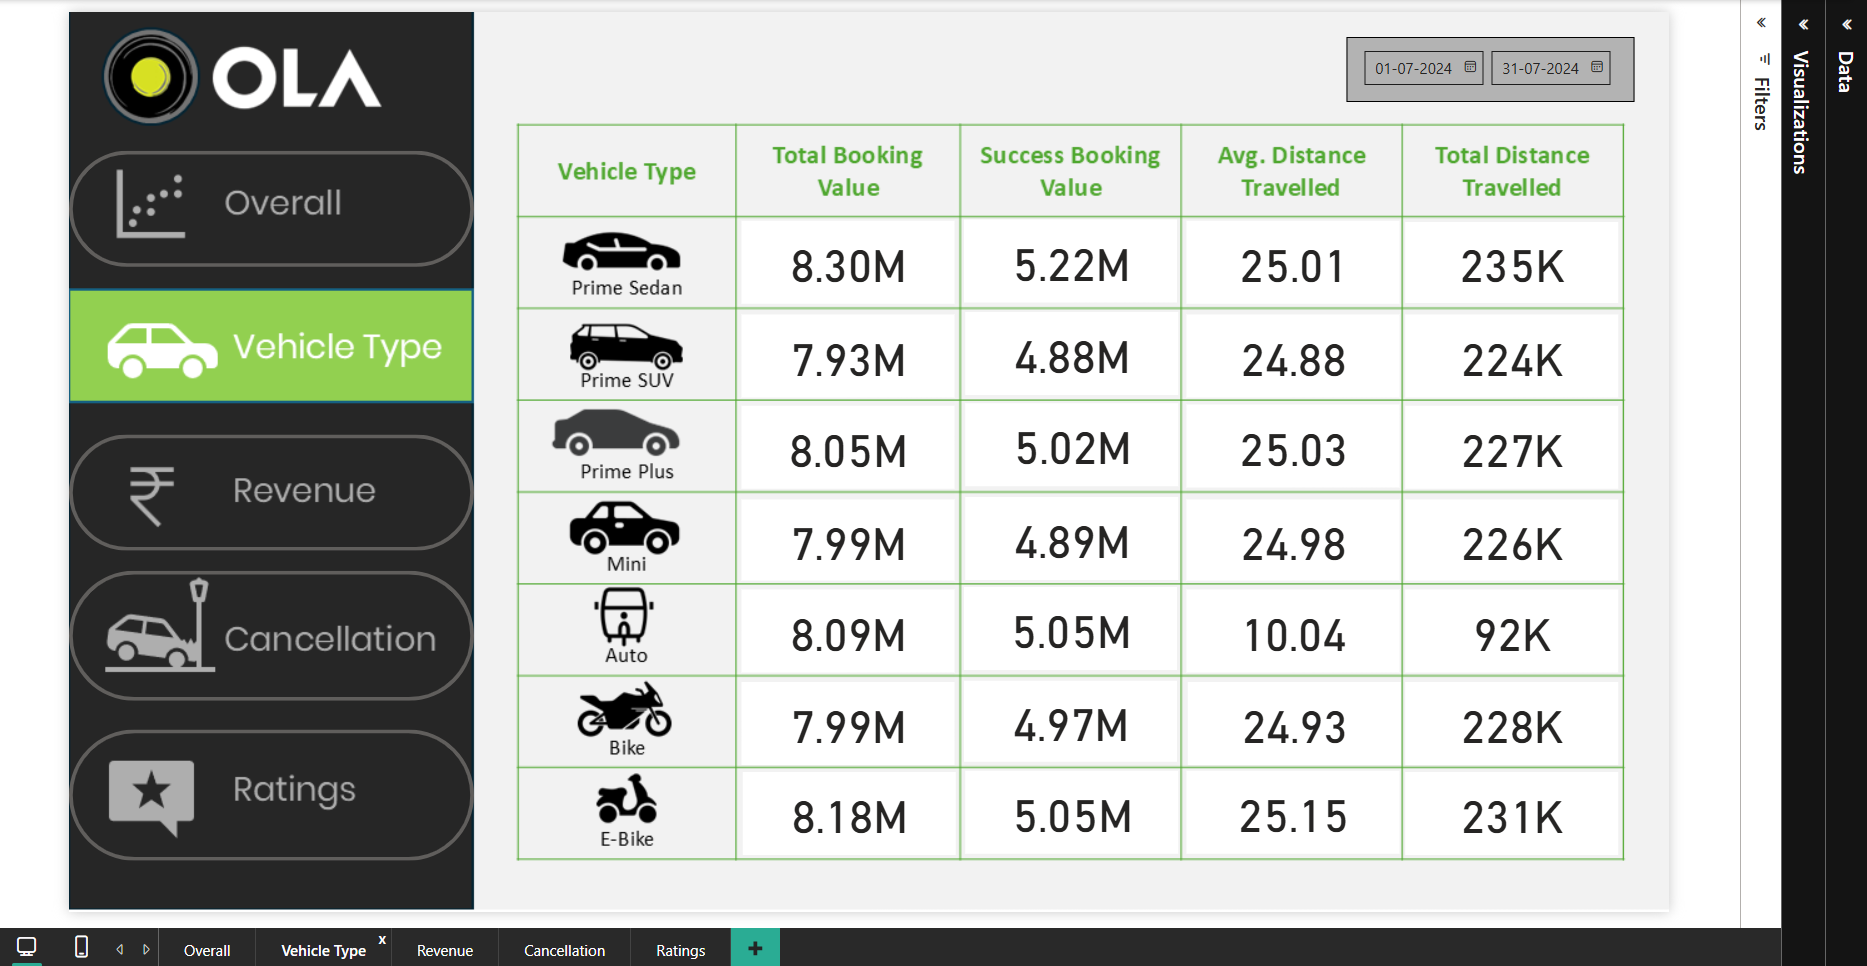

Layout of this report page (visuals, bound fields, positions):
{"tool":"powerbi","page":{"name":"Vehicle Type","canvas":[1280,720],"ordinal":1},"visuals":[{"type":"actionButton","box":[0,111.1,324.4,93.3],"z":0},{"type":"actionButton","box":[0,337.8,324.4,93.3],"z":1000},{"type":"actionButton","box":[0,446.7,324.4,104.4],"z":2000},{"type":"actionButton","box":[0,574.4,324.4,104.4],"z":3000},{"type":"card","fields":{"Values":["Sum(Bookings-100000-Rows.Booking_Value)"]},"box":[716,165.6,170,66],"z":4000},{"type":"card","fields":{"Values":["Sum(Bookings-100000-Rows.Booking_Value)"]},"box":[716.9,240.3,170,65.9],"z":5000},{"type":"card","fields":{"Values":["Sum(Bookings-100000-Rows.Booking_Value)"]},"box":[716.9,313.2,170,65.9],"z":6000},{"type":"card","fields":{"Values":["Sum(Bookings-100000-Rows.Booking_Value)"]},"box":[716.9,388,170,65.6],"z":7000},{"type":"card","fields":{"Values":["Sum(Bookings-100000-Rows.Booking_Value)"]},"box":[716.2,460.3,170,65.9],"z":8000},{"type":"card","fields":{"Values":["Sum(Bookings-100000-Rows.Booking_Value)"]},"box":[716.2,534.7,170,65.6],"z":9000},{"type":"card","fields":{"Values":["Sum(Bookings-100000-Rows.Booking_Value)"]},"box":[716.9,606.9,170,65.9],"z":10000},{"type":"card","fields":{"Values":["Sum(Bookings-100000-Rows.Booking_Value)"]},"box":[537.8,167.2,170,66],"z":11000},{"type":"card","fields":{"Values":["Sum(Bookings-100000-Rows.Booking_Value)"]},"box":[537.8,242,170,66],"z":12000},{"type":"card","fields":{"Values":["Sum(Bookings-100000-Rows.Booking_Value)"]},"box":[537.8,314.8,170,66],"z":13000},{"type":"card","fields":{"Values":["Sum(Bookings-100000-Rows.Booking_Value)"]},"box":[537.8,390,170,65.2],"z":14000},{"type":"card","fields":{"Values":["Sum(Bookings-100000-Rows.Booking_Value)"]},"box":[537.8,462,170,66],"z":15000},{"type":"card","fields":{"Values":["Sum(Bookings-100000-Rows.Booking_Value)"]},"box":[538.2,536.4,170,65.6],"z":16000},{"type":"card","fields":{"Values":["Sum(Bookings-100000-Rows.Booking_Value)"]},"box":[538.6,608.4,170,66],"z":17000},{"type":"card","fields":{"Values":["Avg(Bookings-100000-Rows.Ride_Distance)"]},"box":[894.2,166.8,170,66],"z":18000},{"type":"card","fields":{"Values":["Avg(Bookings-100000-Rows.Ride_Distance)"]},"box":[894.2,241.6,170,66],"z":19000},{"type":"card","fields":{"Values":["Avg(Bookings-100000-Rows.Ride_Distance)"]},"box":[894.2,314.4,170,66],"z":20000},{"type":"card","fields":{"Values":["Avg(Bookings-100000-Rows.Ride_Distance)"]},"box":[894.2,389.6,170,65.2],"z":21000},{"type":"card","fields":{"Values":["Avg(Bookings-100000-Rows.Ride_Distance)"]},"box":[894.2,461.6,170,66],"z":22000},{"type":"card","fields":{"Values":["Avg(Bookings-100000-Rows.Ride_Distance)"]},"box":[894.6,536,170,65.6],"z":23000},{"type":"card","fields":{"Values":["Avg(Bookings-100000-Rows.Ride_Distance)"]},"box":[894,607,170,66],"z":24000},{"type":"card","fields":{"Values":["Sum(Bookings-100000-Rows.Ride_Distance)"]},"box":[1069.3,167.7,170,65],"z":25000},{"type":"card","fields":{"Values":["Sum(Bookings-100000-Rows.Ride_Distance)"]},"box":[1069.3,242.3,170,65.7],"z":26000},{"type":"card","fields":{"Values":["Sum(Bookings-100000-Rows.Ride_Distance)"]},"box":[1069.3,314.7,170,66],"z":27000},{"type":"card","fields":{"Values":["Sum(Bookings-100000-Rows.Ride_Distance)"]},"box":[1069.3,390,170,65.3],"z":28000},{"type":"card","fields":{"Values":["Sum(Bookings-100000-Rows.Ride_Distance)"]},"box":[1069.3,462,170,66],"z":29000},{"type":"card","fields":{"Values":["Sum(Bookings-100000-Rows.Ride_Distance)"]},"box":[1069.3,536.3,170,65.3],"z":30000},{"type":"card","fields":{"Values":["Sum(Bookings-100000-Rows.Ride_Distance)"]},"box":[1069.3,608.3,170,66],"z":31000},{"type":"slicer","title":"Date","fields":{"Values":["Bookings-100000-Rows.Date"]},"box":[1021.7,20,230,51.7],"z":32000}]}

Visuals, with their boxes on the page's 1280x720 design canvas (x1, y1, x2, y2). These are canvas units, not pixel positions in the 1867x966 screenshot, which may show the page scaled, cropped or inside an application window:
actionButton: <bbox>0, 111, 324, 204</bbox>
actionButton: <bbox>0, 338, 324, 431</bbox>
actionButton: <bbox>0, 447, 324, 551</bbox>
actionButton: <bbox>0, 574, 324, 679</bbox>
card - Sum(Bookings-100000-Rows.Booking_Value): <bbox>716, 166, 886, 232</bbox>
card - Sum(Bookings-100000-Rows.Booking_Value): <bbox>717, 240, 887, 306</bbox>
card - Sum(Bookings-100000-Rows.Booking_Value): <bbox>717, 313, 887, 379</bbox>
card - Sum(Bookings-100000-Rows.Booking_Value): <bbox>717, 388, 887, 454</bbox>
card - Sum(Bookings-100000-Rows.Booking_Value): <bbox>716, 460, 886, 526</bbox>
card - Sum(Bookings-100000-Rows.Booking_Value): <bbox>716, 535, 886, 600</bbox>
card - Sum(Bookings-100000-Rows.Booking_Value): <bbox>717, 607, 887, 673</bbox>
card - Sum(Bookings-100000-Rows.Booking_Value): <bbox>538, 167, 708, 233</bbox>
card - Sum(Bookings-100000-Rows.Booking_Value): <bbox>538, 242, 708, 308</bbox>
card - Sum(Bookings-100000-Rows.Booking_Value): <bbox>538, 315, 708, 381</bbox>
card - Sum(Bookings-100000-Rows.Booking_Value): <bbox>538, 390, 708, 455</bbox>
card - Sum(Bookings-100000-Rows.Booking_Value): <bbox>538, 462, 708, 528</bbox>
card - Sum(Bookings-100000-Rows.Booking_Value): <bbox>538, 536, 708, 602</bbox>
card - Sum(Bookings-100000-Rows.Booking_Value): <bbox>539, 608, 709, 674</bbox>
card - Avg(Bookings-100000-Rows.Ride_Distance): <bbox>894, 167, 1064, 233</bbox>
card - Avg(Bookings-100000-Rows.Ride_Distance): <bbox>894, 242, 1064, 308</bbox>
card - Avg(Bookings-100000-Rows.Ride_Distance): <bbox>894, 314, 1064, 380</bbox>
card - Avg(Bookings-100000-Rows.Ride_Distance): <bbox>894, 390, 1064, 455</bbox>
card - Avg(Bookings-100000-Rows.Ride_Distance): <bbox>894, 462, 1064, 528</bbox>
card - Avg(Bookings-100000-Rows.Ride_Distance): <bbox>895, 536, 1065, 602</bbox>
card - Avg(Bookings-100000-Rows.Ride_Distance): <bbox>894, 607, 1064, 673</bbox>
card - Sum(Bookings-100000-Rows.Ride_Distance): <bbox>1069, 168, 1239, 233</bbox>
card - Sum(Bookings-100000-Rows.Ride_Distance): <bbox>1069, 242, 1239, 308</bbox>
card - Sum(Bookings-100000-Rows.Ride_Distance): <bbox>1069, 315, 1239, 381</bbox>
card - Sum(Bookings-100000-Rows.Ride_Distance): <bbox>1069, 390, 1239, 455</bbox>
card - Sum(Bookings-100000-Rows.Ride_Distance): <bbox>1069, 462, 1239, 528</bbox>
card - Sum(Bookings-100000-Rows.Ride_Distance): <bbox>1069, 536, 1239, 602</bbox>
card - Sum(Bookings-100000-Rows.Ride_Distance): <bbox>1069, 608, 1239, 674</bbox>
"Date" slicer: <bbox>1022, 20, 1252, 72</bbox>
